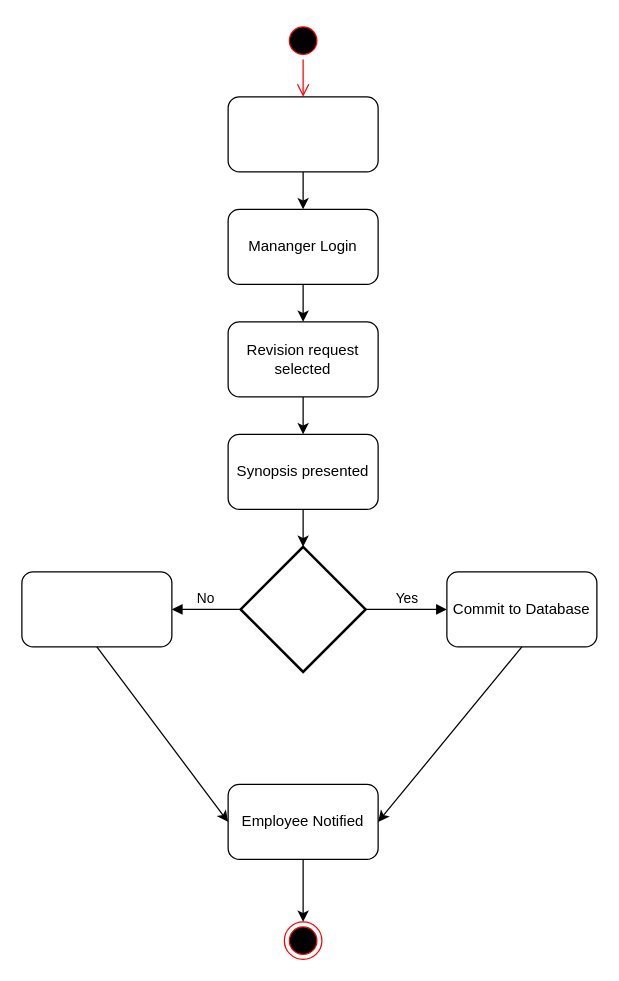
The diagram is 619 pixels wide and 981 high, and some of its shapes have lost their labels. The shapes that lost their labels are listed below. From the top down, each one's centre as x and y in pixels, then its label:
At pixel 302 134: "Workflow Notification of revision request".
At pixel 96 609: "Non commit to Database".
At pixel 302 608: "Manager Approval".
